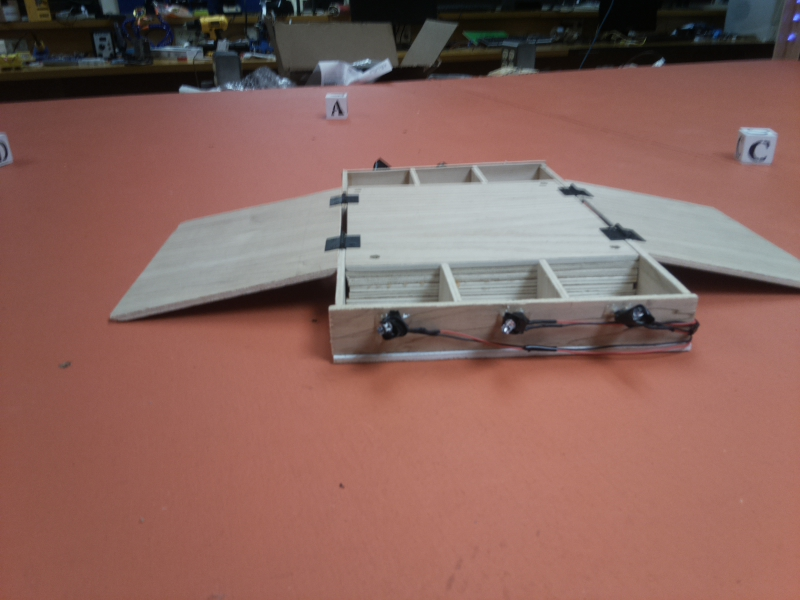blockA: (320, 92, 351, 119)
blockC: (734, 127, 777, 166)
blockD: (1, 138, 16, 168)
corner: (764, 5, 800, 64)
side: (326, 254, 697, 366)
slope: (107, 184, 345, 329), (573, 179, 799, 292)
